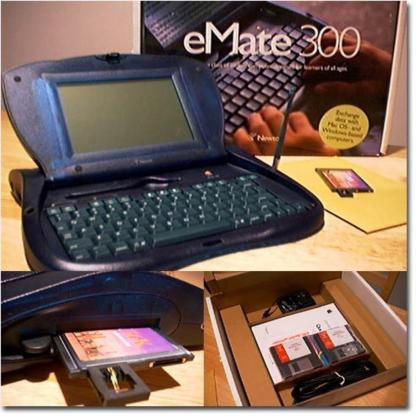board: (0, 49, 325, 272)
